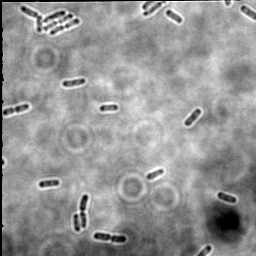Dividing: (1, 101, 32, 119), (92, 230, 128, 245), (77, 192, 90, 230)
Microcolony: (20, 5, 81, 38)
Rod: (183, 106, 203, 128), (60, 76, 88, 89), (145, 166, 167, 182), (37, 177, 62, 190), (216, 190, 239, 204), (165, 9, 185, 25), (98, 102, 119, 113), (71, 212, 81, 234)
